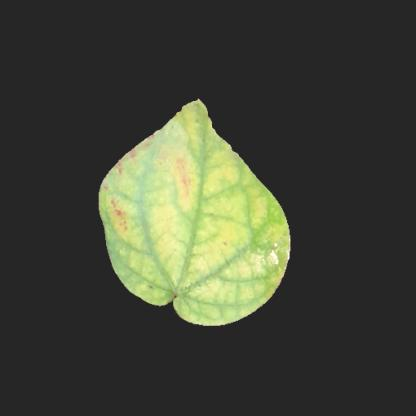curl_stage1: (130, 172, 255, 297), (228, 192, 276, 293), (158, 128, 228, 174)
